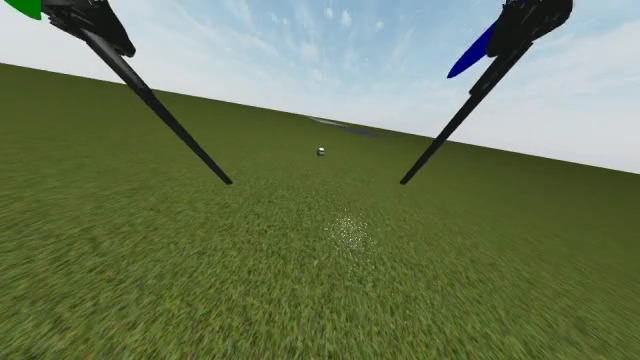Car: (315, 146, 326, 155)
